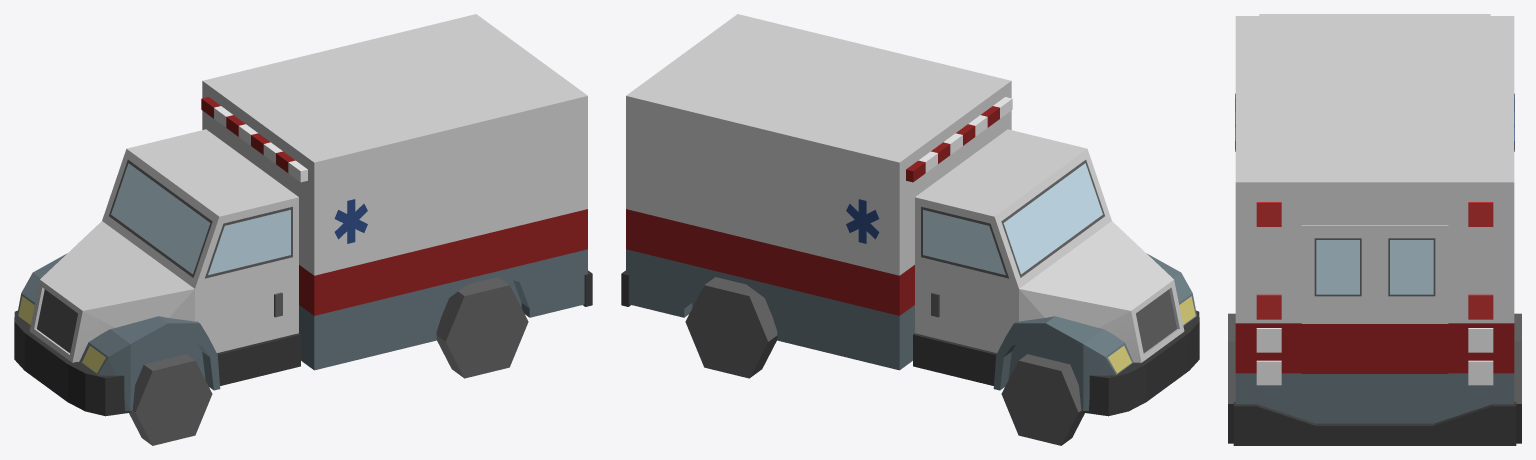
The model's file is Ambulance.fbx.
3 renders of one model, left to right at view 1: azimuth 30°, elevation 25°; view 2: azimuth 150°, elevation 25°; view 3: azimuth 270°, elevation 25°, orthographic. The views are drawn at different scales.
Visible parts, largest first — view 1: Ambulance; view 2: Ambulance; view 3: Ambulance.
Part boxes in pixels (left/top/right/bottom): Ambulance: left=14, top=14, right=592, bottom=445; Ambulance: left=621, top=14, right=1199, bottom=445; Ambulance: left=1228, top=14, right=1521, bottom=445.
Size of the model in its own units: 7.76 by 3.78 by 3.23.
Materials: 1 (1 with a texture image).
